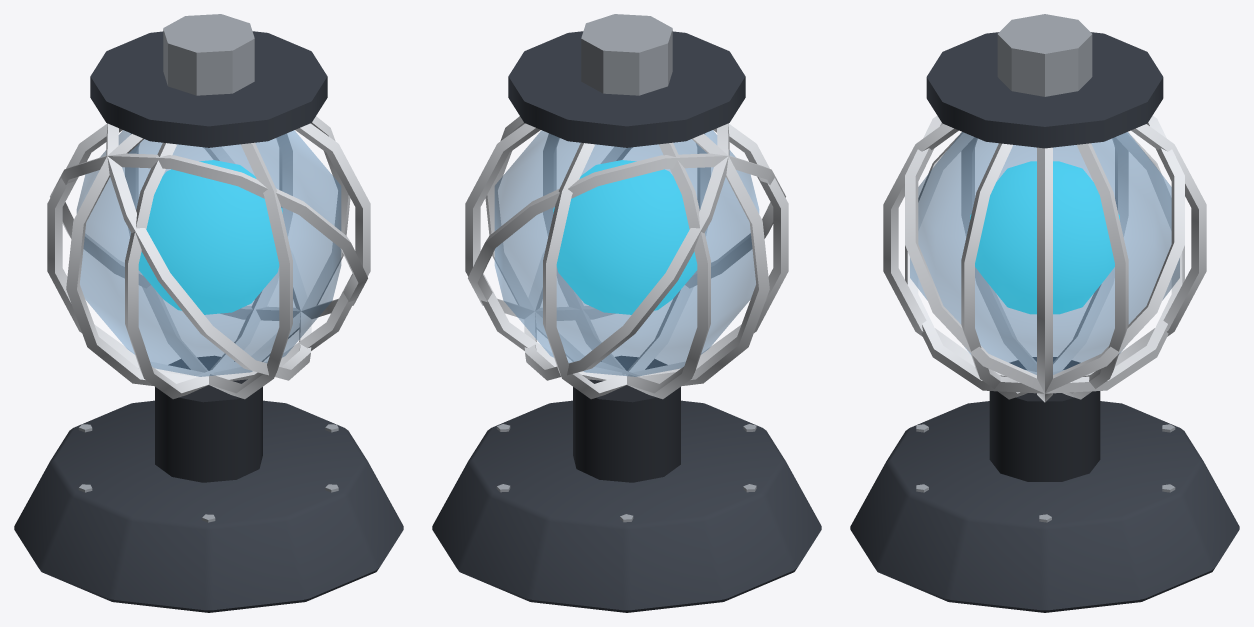
The model's file is capacitor_power_core.glb.
The picture shows the model from 3 angles, left to right: view 1: azimuth 30°, elevation 25°; view 2: azimuth 150°, elevation 25°; view 3: azimuth 270°, elevation 25°; orthographic projection.
Visible parts, largest first — view 1: capacitor_power_core; view 2: capacitor_power_core; view 3: capacitor_power_core.
Boxes of the visible parts, <box> form: capacitor_power_core: <box>14,14,403,612</box>; capacitor_power_core: <box>432,14,821,612</box>; capacitor_power_core: <box>850,14,1239,612</box>.
Bounding box in the file's own units: 0.9858 × 1.39 × 0.9858.
